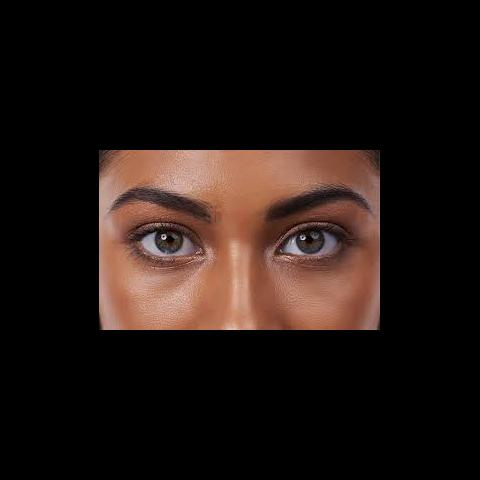opened: (109, 177, 371, 274)
